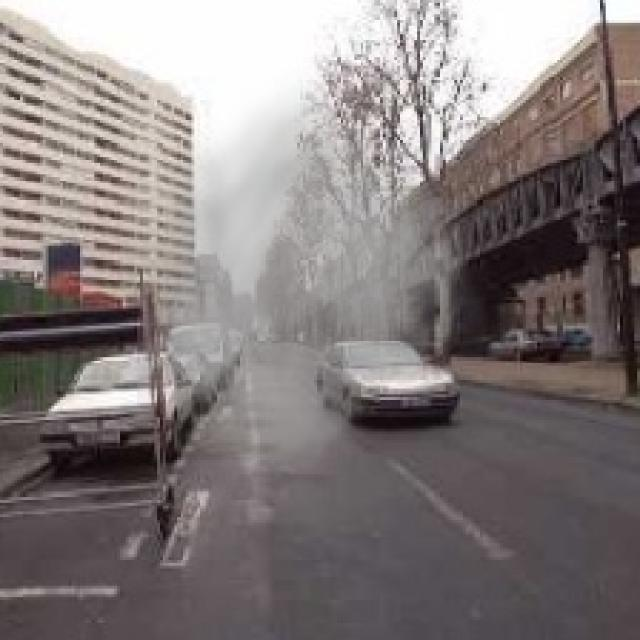smoke: (137, 69, 506, 492)
